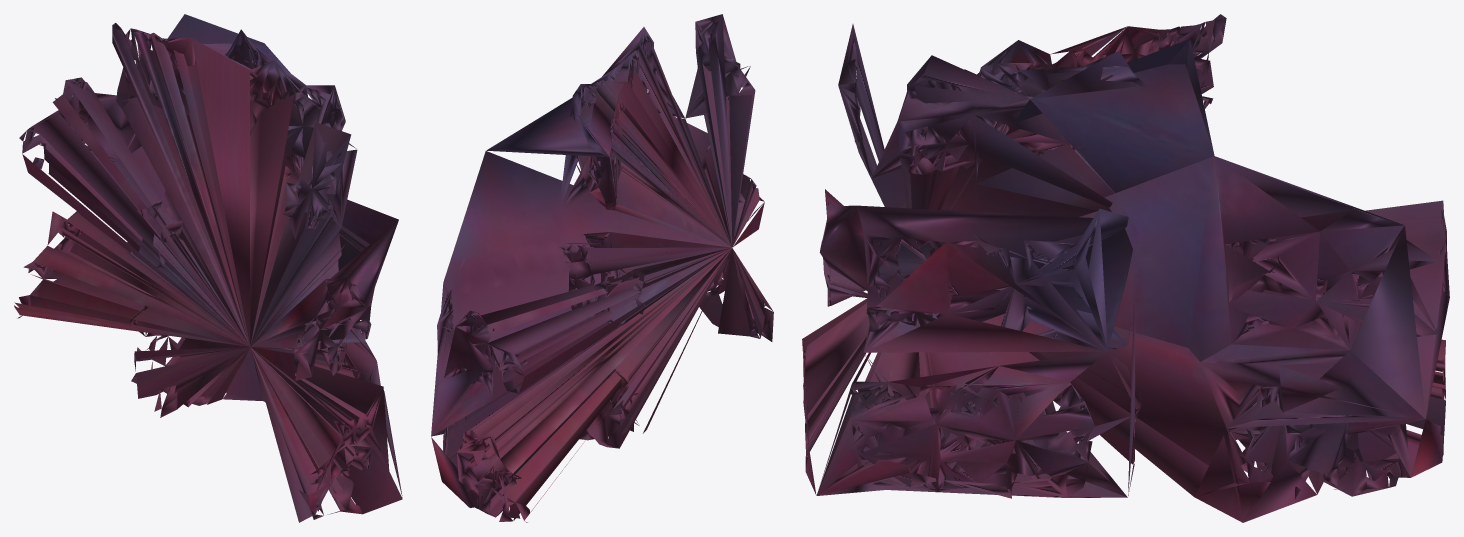
File: crates_plastic.glb
3 renders of one model, left to right at view 1: azimuth 30°, elevation 25°; view 2: azimuth 150°, elevation 25°; view 3: azimuth 270°, elevation 25°, orthographic. The views are drawn at different scales.
Visible parts, largest first — view 1: tripo_node_9b326186-56f0-497c-a0b9-bf839c699256; view 2: tripo_node_9b326186-56f0-497c-a0b9-bf839c699256; view 3: tripo_node_9b326186-56f0-497c-a0b9-bf839c699256.
Part boxes in pixels (<box>): tripo_node_9b326186-56f0-497c-a0b9-bf839c699256: <box>14,14,402,522</box>; tripo_node_9b326186-56f0-497c-a0b9-bf839c699256: <box>431,14,773,522</box>; tripo_node_9b326186-56f0-497c-a0b9-bf839c699256: <box>802,14,1449,522</box>.
Bounding box in the file's own units: 0.3041 × 0.7917 × 1.
Materials: 1 (1 with a texture image).
